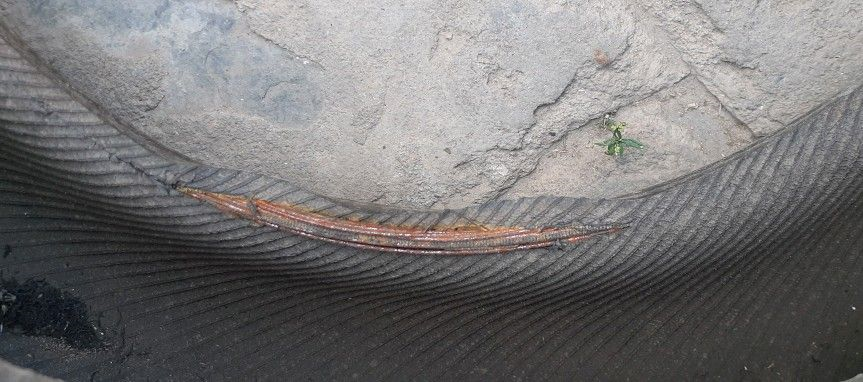bead_damage: (79, 108, 646, 268)
